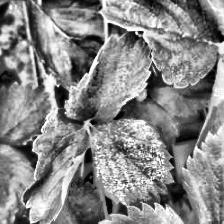Powdery Mildew Leaf: (100, 0, 220, 90), (64, 31, 154, 122), (89, 117, 175, 210), (195, 50, 224, 150)
